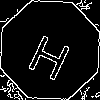H: (25, 25, 78, 82)
